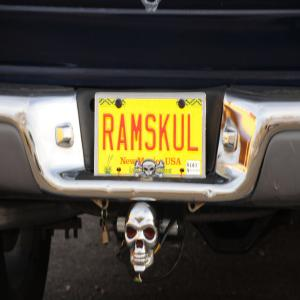Vehicle-registration-plate: (93, 89, 214, 192)
